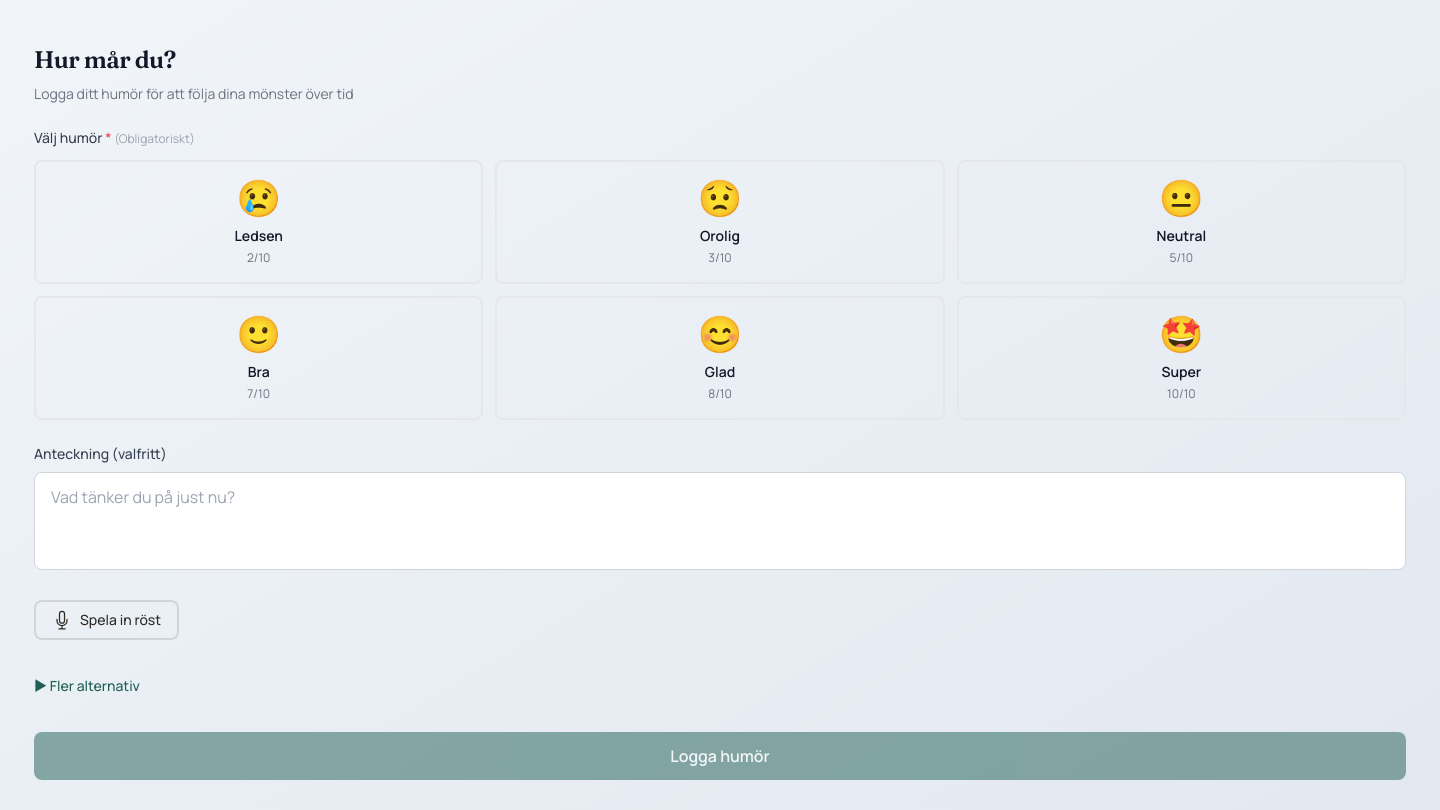
SuperMoodLogger › Voice recording › starts recording and shows stop button
The width and height of the screenshot is (1440, 810).
What coordinates should you click on to do the following:
click the button "Spela in röst"
I would click on:
 (106, 620)
Its box is left=34, top=600, right=179, bottom=640.
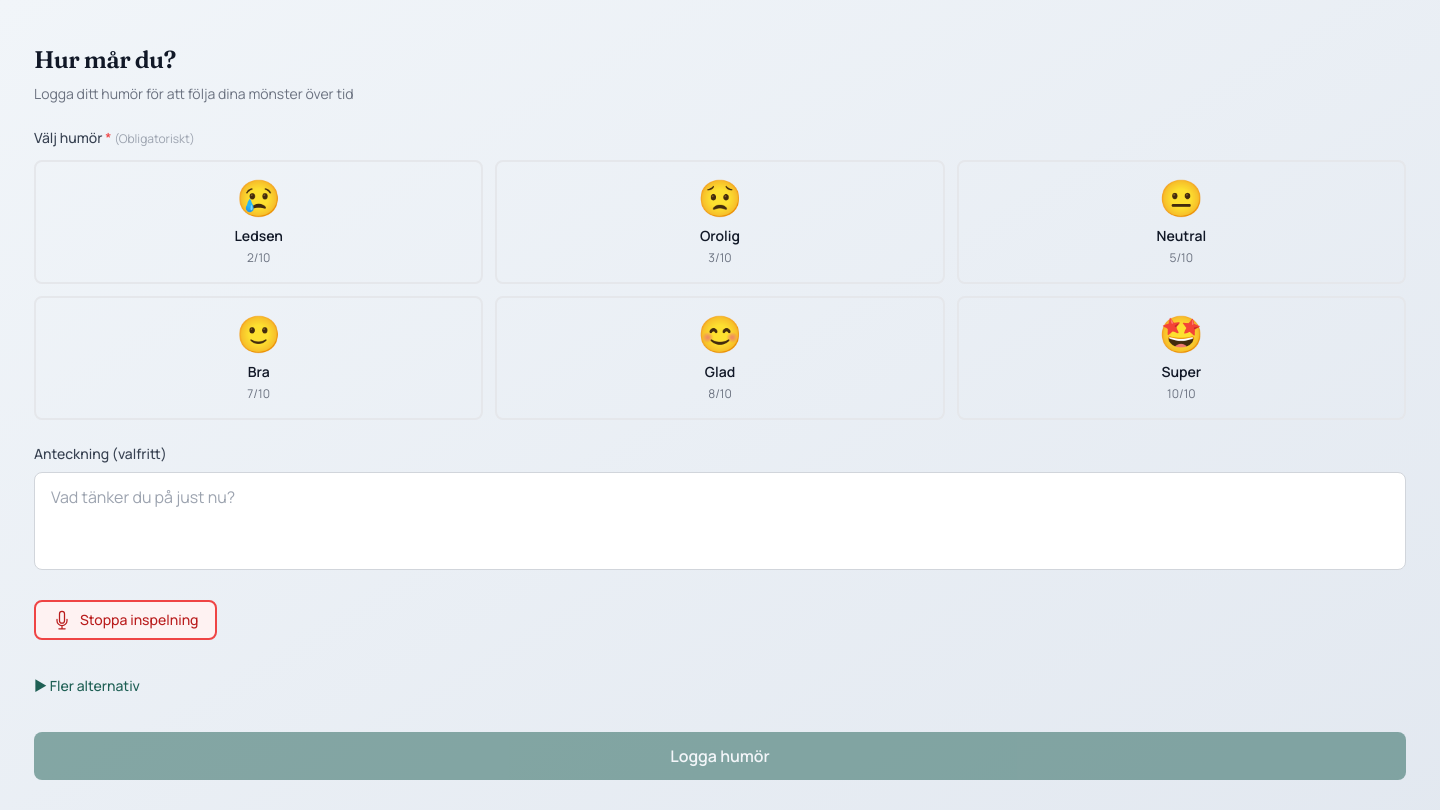
expect the button "Stoppa inspelning" is shown: met, box left=34, top=600, right=216, bottom=640
